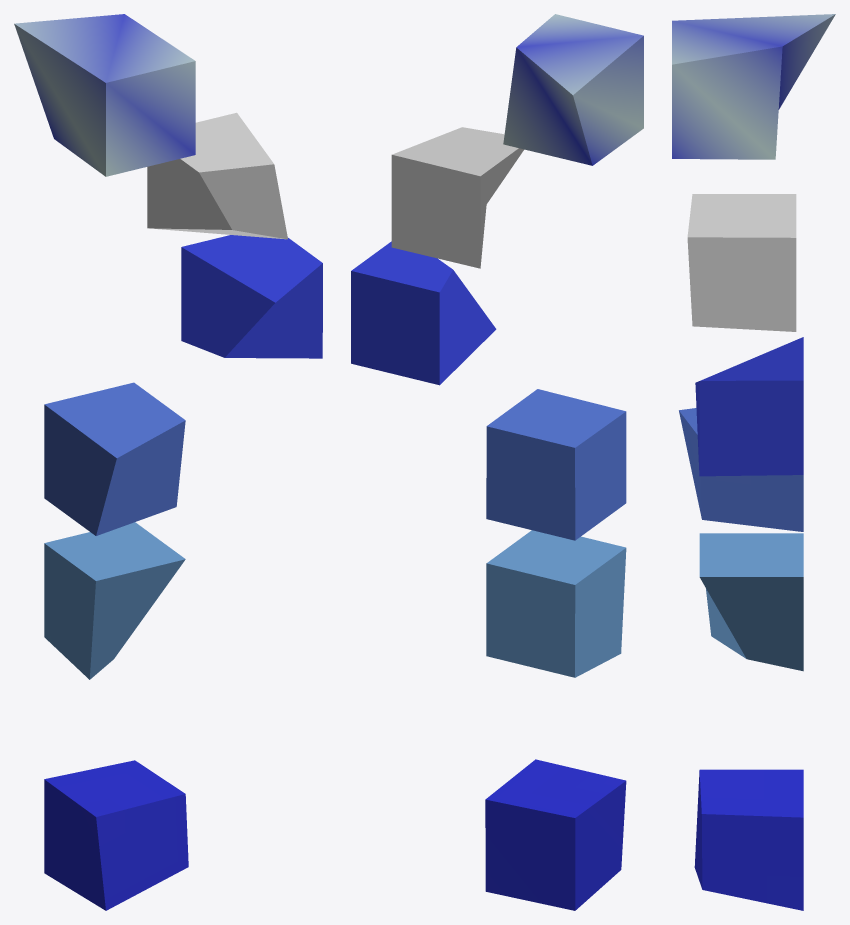
Rendered from cubes.glb.
3 views of the same model, side by side, from view 1: azimuth 30°, elevation 25°; view 2: azimuth 150°, elevation 25°; view 3: azimuth 270°, elevation 25° (orthographic).
Visible parts, largest first — view 1: Cube.002, Cube.003, Cube.005, Cube, Cube.004, Cube.001; view 2: Cube.003, Cube.004, Cube.005, Cube.002, Cube, Cube.001; view 3: Cube.002, Cube.001, Cube.005, Cube, Cube.004, Cube.003.
Part boxes in pixels (left/top/right/bottom): Cube.002: left=14, top=14, right=195, bottom=176; Cube.003: left=44, top=382, right=185, bottom=535; Cube.005: left=44, top=760, right=188, bottom=910; Cube: left=181, top=235, right=322, bottom=358; Cube.004: left=44, top=522, right=185, bottom=679; Cube.001: left=147, top=112, right=287, bottom=239; Cube.003: left=486, top=389, right=626, bottom=540; Cube.004: left=486, top=530, right=626, bottom=677; Cube.005: left=485, top=759, right=626, bottom=910; Cube.002: left=503, top=14, right=643, bottom=165; Cube: left=351, top=241, right=496, bottom=385; Cube.001: left=391, top=127, right=524, bottom=268; Cube.002: left=672, top=14, right=835, bottom=159; Cube.001: left=687, top=194, right=796, bottom=331; Cube.005: left=694, top=769, right=803, bottom=910; Cube: left=695, top=337, right=803, bottom=476; Cube.004: left=699, top=533, right=803, bottom=671; Cube.003: left=679, top=408, right=803, bottom=531.
Size of the model in its own units: 0.6536 by 2.21 by 0.3844.
